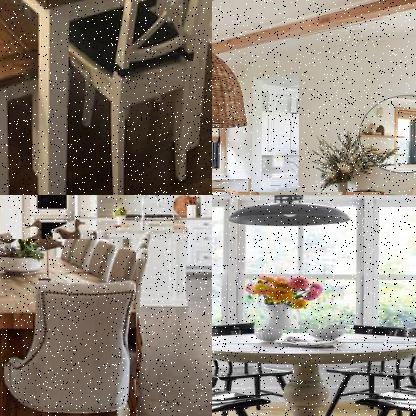table: (0, 0, 211, 194), (0, 239, 137, 415), (212, 328, 415, 415)
